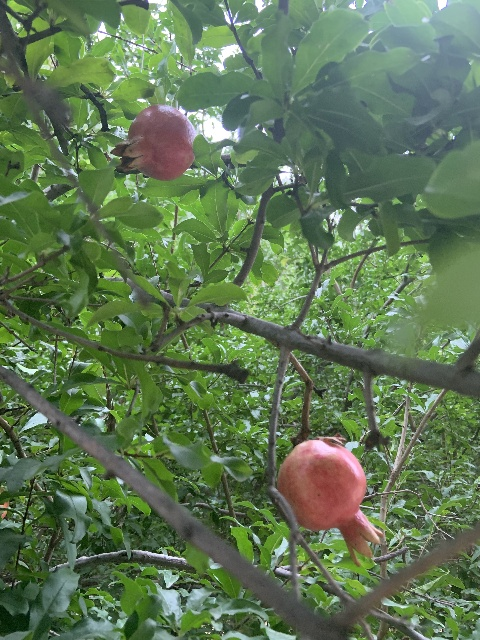ripe: (277, 439, 384, 567), (109, 104, 196, 181)
